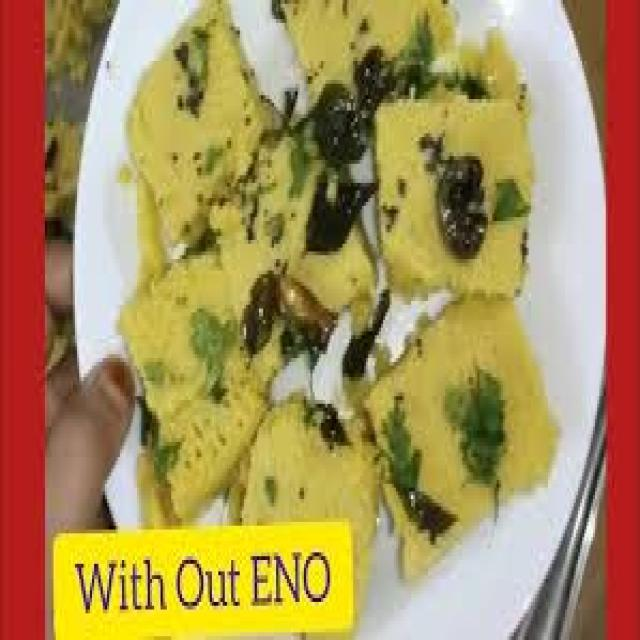DHOKLA: (372, 287, 561, 592), (212, 125, 380, 374), (135, 10, 275, 289), (122, 241, 259, 519), (383, 75, 524, 299), (234, 409, 370, 615), (281, 0, 461, 148)
